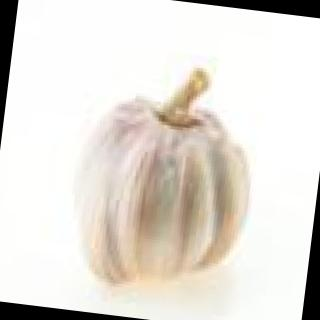Bawang Putih: (38, 37, 302, 304)
